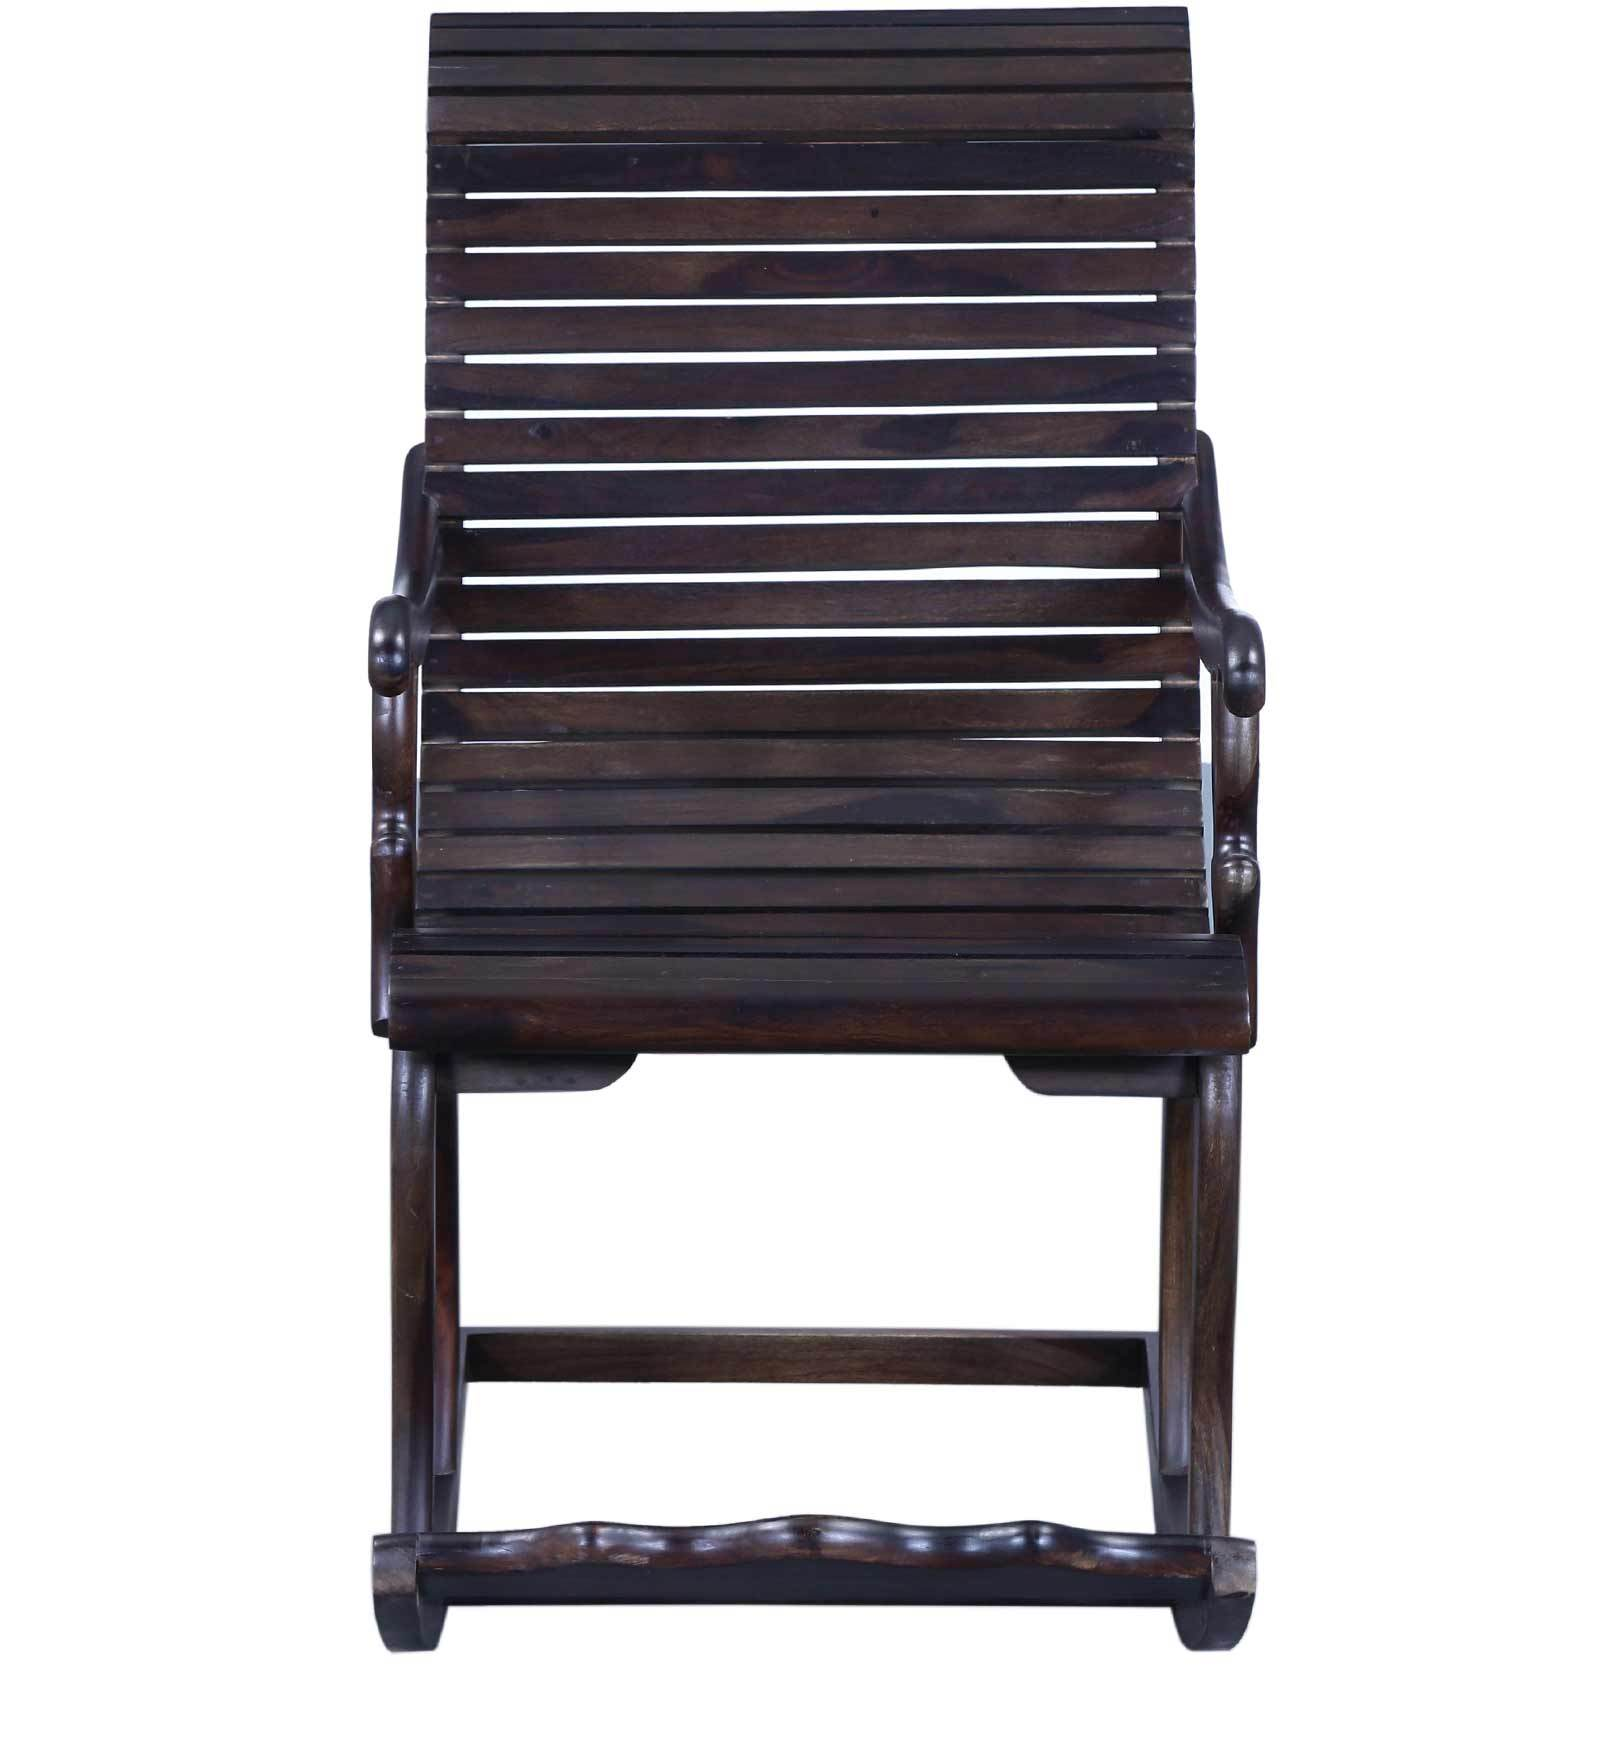Acklom Rocking Chair in Warm Chestnut Finish by Amberville: (325, 12, 1287, 1671)
